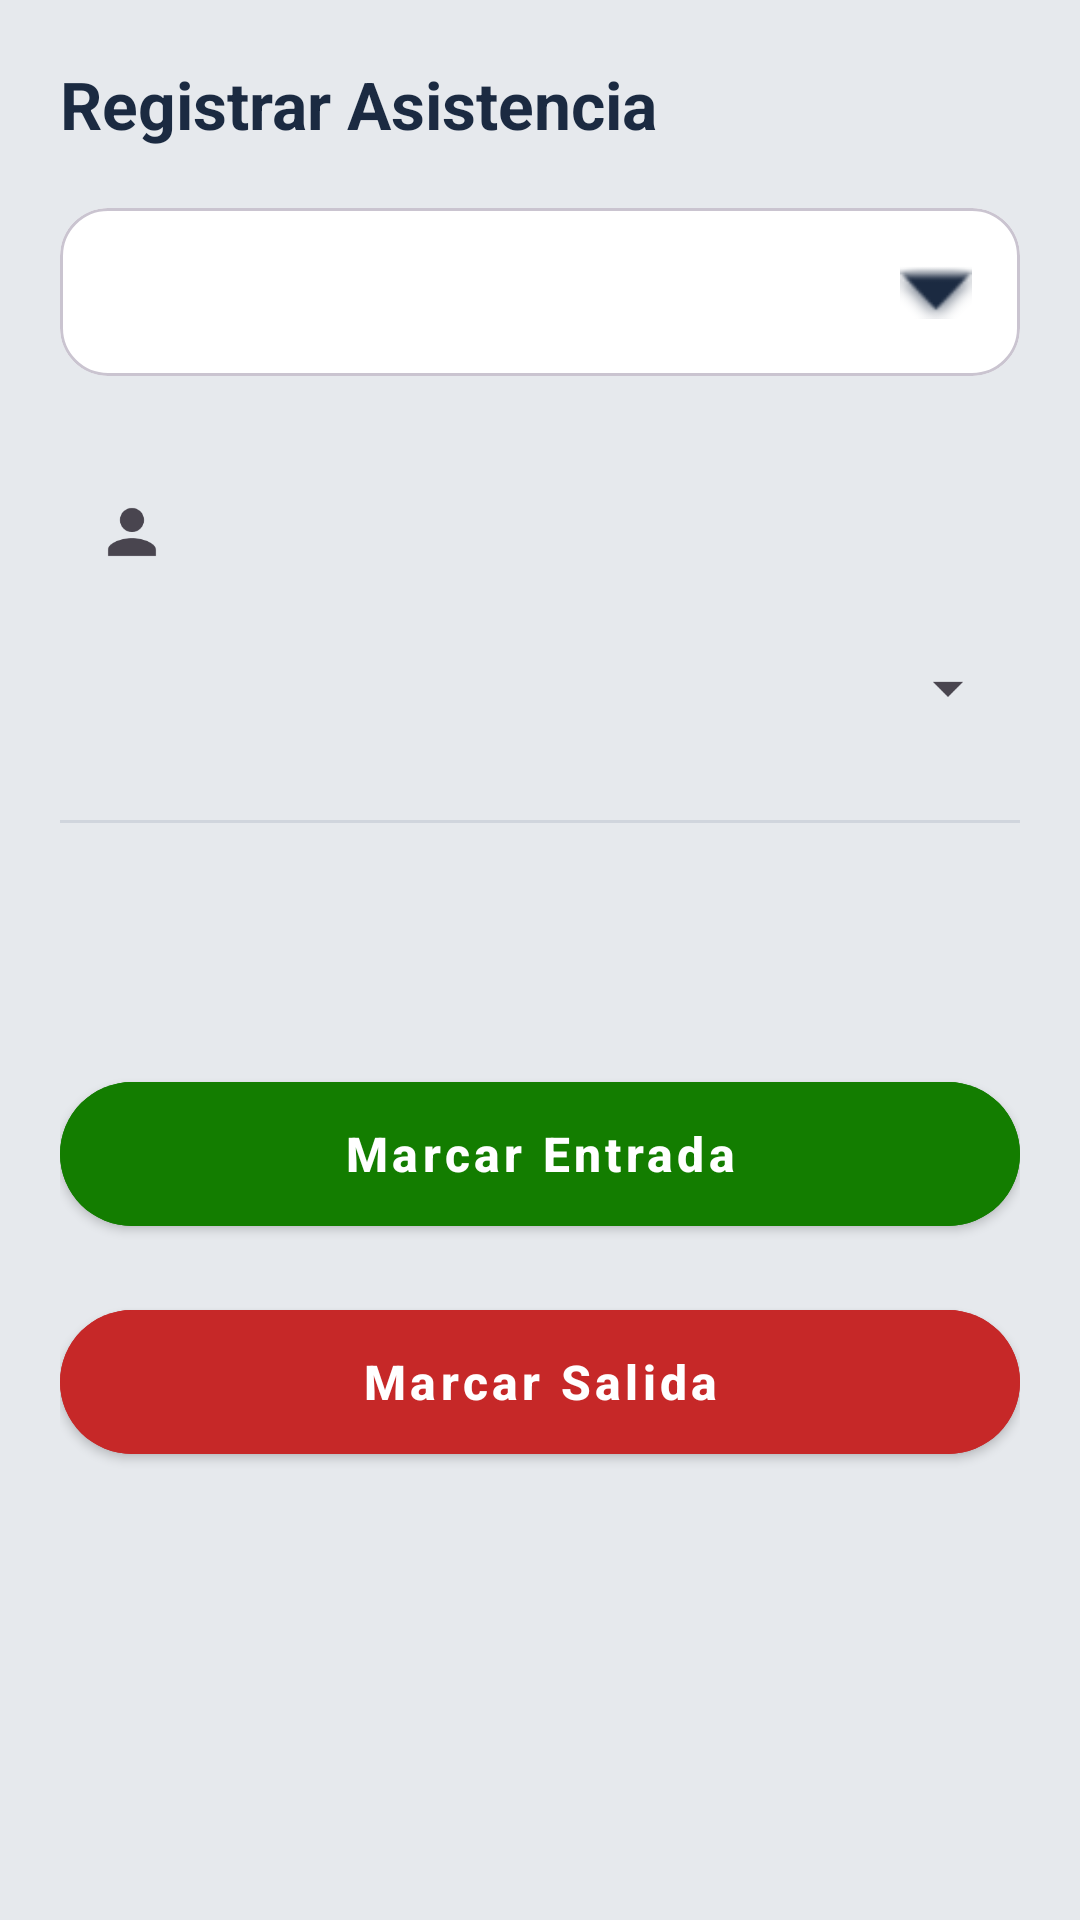

Screen size 1080x1920. Icon name, then its center in pixels as (x=x, y=y):
arrow down float: (x=936, y=292)
